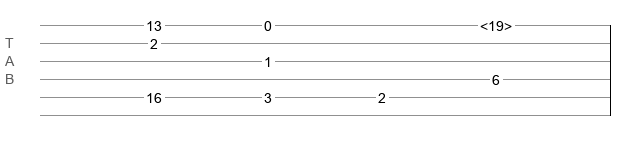0: (264, 18, 272, 28)
1: (264, 54, 272, 64)
13: (146, 18, 162, 28)
16: (146, 90, 162, 100)
2: (150, 36, 158, 46), (378, 90, 386, 100)
3: (264, 90, 272, 100)
6: (492, 72, 500, 82)
harmonic: (480, 18, 512, 28)
